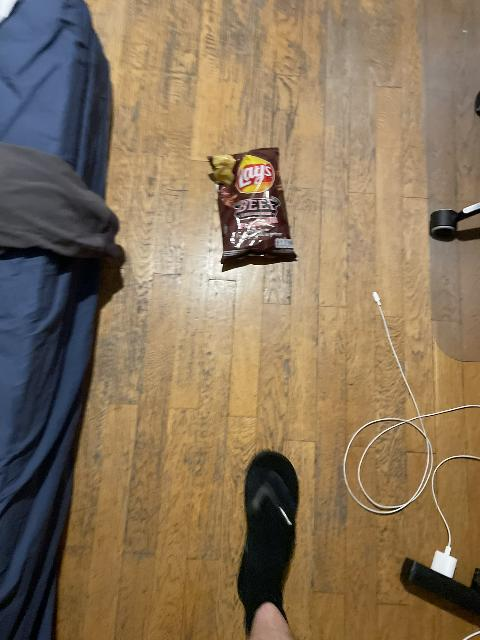Lays Beef Grilled Ribs 125g: (209, 147, 300, 269)
